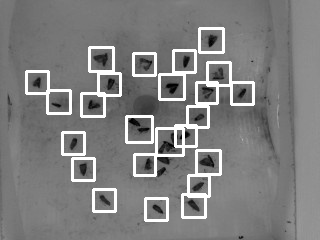insect: (157, 139, 177, 153), (91, 51, 109, 66), (198, 153, 216, 168), (209, 65, 225, 81), (199, 85, 215, 100), (138, 56, 153, 72), (163, 80, 180, 94), (97, 193, 112, 207), (186, 198, 200, 212), (155, 154, 172, 165), (150, 202, 164, 215), (236, 86, 248, 101), (86, 98, 101, 110), (77, 161, 88, 177), (207, 32, 218, 47), (154, 166, 167, 178), (142, 155, 152, 170), (178, 129, 191, 140), (181, 54, 191, 68), (31, 75, 41, 89), (127, 116, 141, 126), (68, 137, 78, 151), (191, 181, 205, 191), (193, 112, 206, 122), (106, 76, 115, 90), (136, 125, 151, 133), (49, 100, 62, 109), (170, 132, 178, 145)
